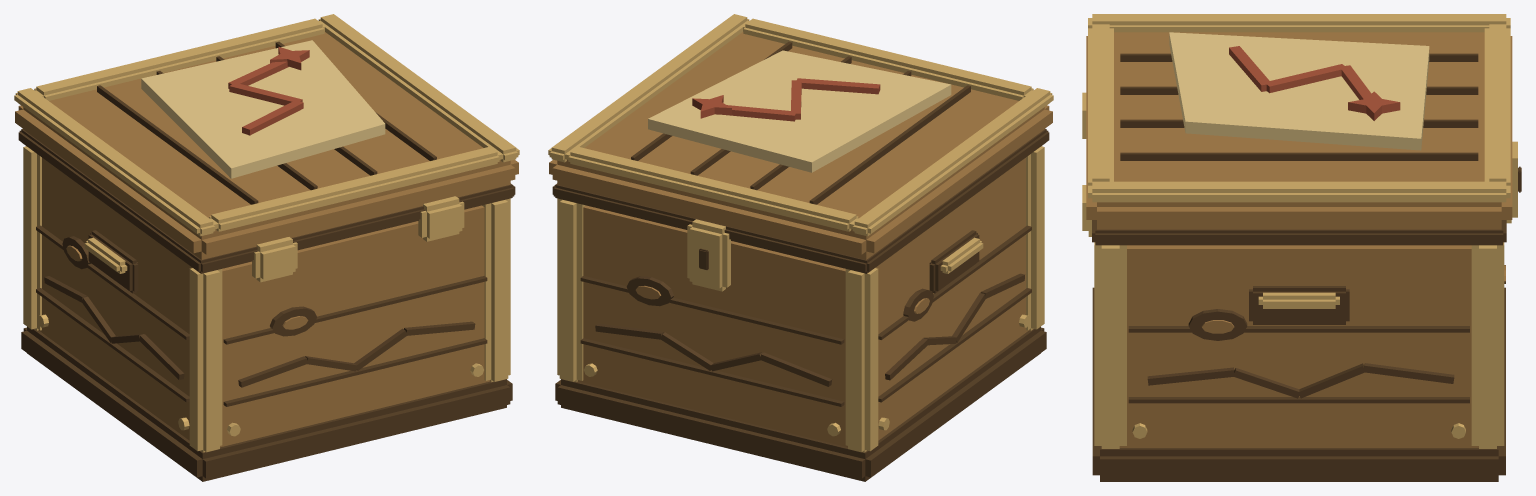
The model's file is crate_aventureiro.fbx.
3 views of the same model, side by side, from view 1: azimuth 30°, elevation 25°; view 2: azimuth 150°, elevation 25°; view 3: azimuth 270°, elevation 25° (orthographic). The views are drawn at different scales.
Parts seen in each view (by area): view 1: crate_aventureiro_caixa; view 2: crate_aventureiro_caixa; view 3: crate_aventureiro_caixa.
Part boxes in pixels (x1,y1,x2,y2): crate_aventureiro_caixa: [14, 14, 519, 481]; crate_aventureiro_caixa: [548, 14, 1053, 481]; crate_aventureiro_caixa: [1082, 14, 1521, 481].
Bounding box in the file's own units: 2.68 × 2.22 × 2.7.
Materials: 1 (1 with a texture image).
